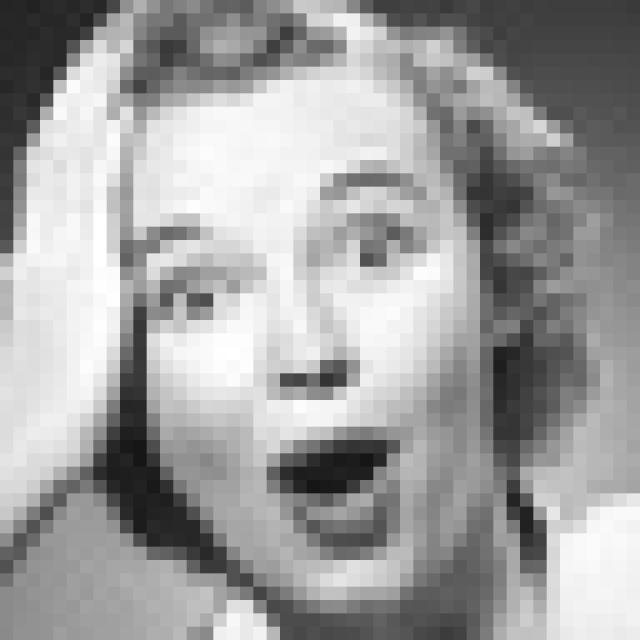surprise: (122, 153, 449, 568)
